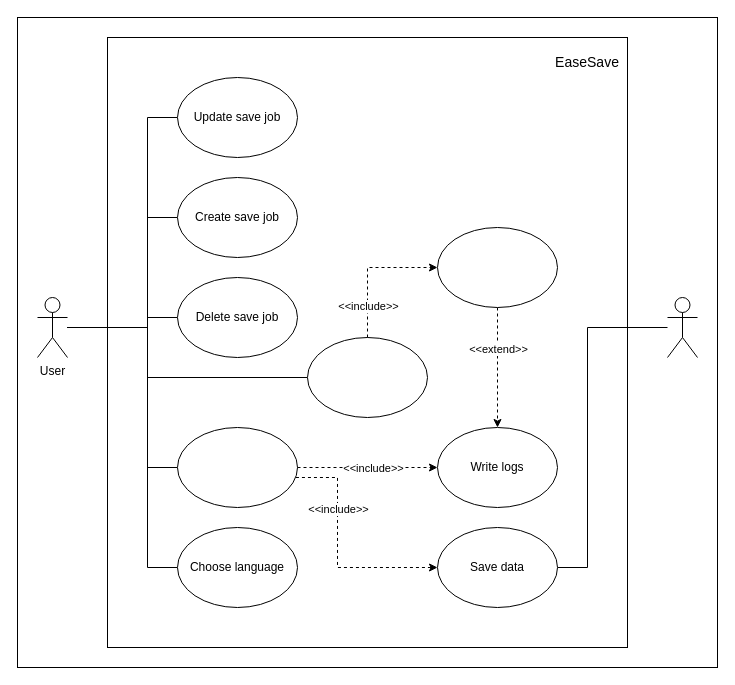
The diagram is 735 pixels wide and 685 high, and some of its shapes have lost their labels. Each missing label, with the centre of its shape:
Access logs: pixel 497 267
Check progress of backup job: pixel 367 377
Start save job: pixel 237 467
System: pixel 682 327
